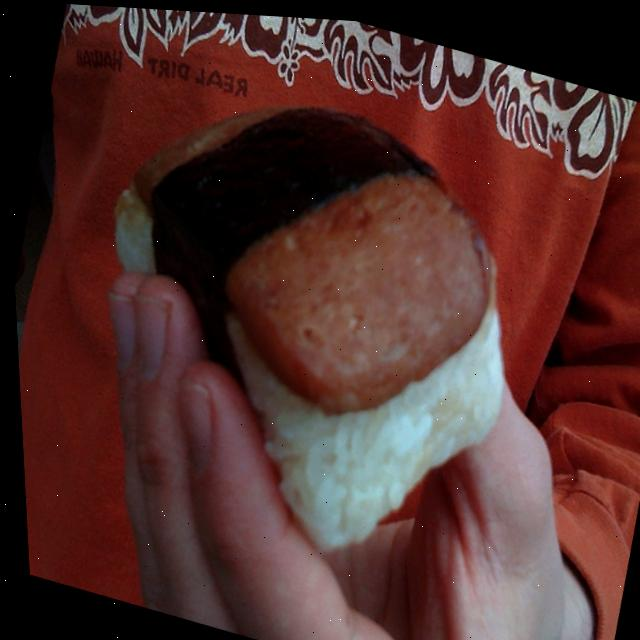寿司卷物: (28, 22, 603, 602)
